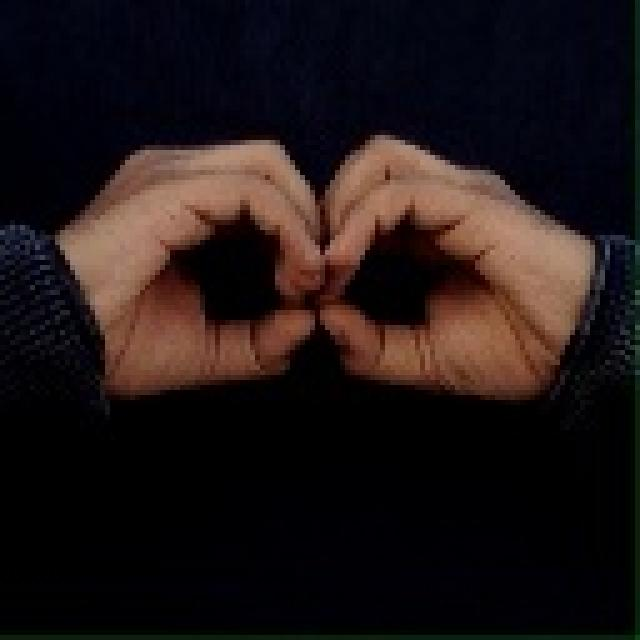Alphabet-B: (61, 135, 604, 436), (468, 503, 469, 507)
